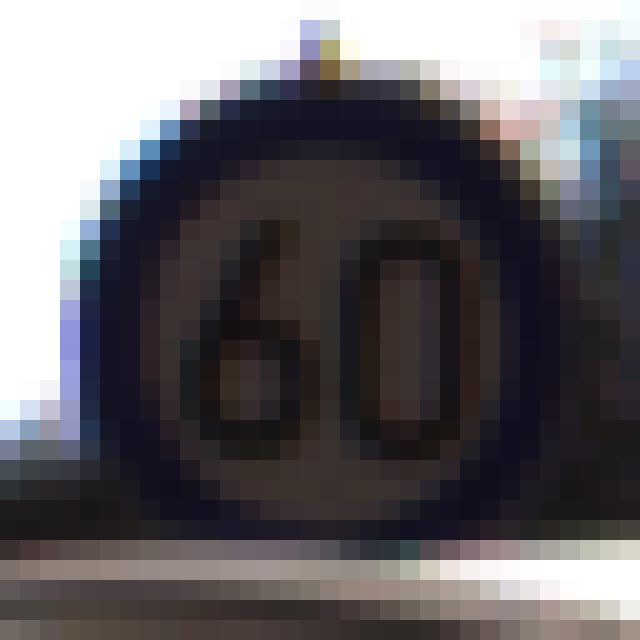SPEED-LIMIT-60: (57, 67, 576, 600)
